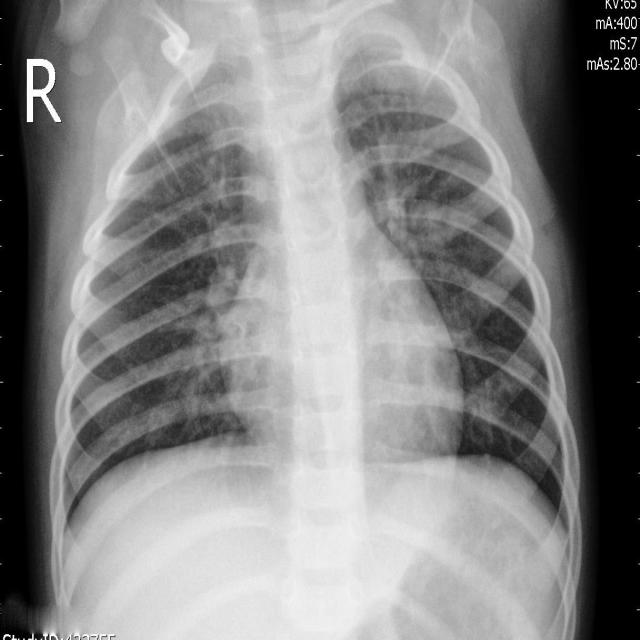high-pneumonia: (326, 7, 441, 113)
low-pneumonia: (375, 128, 472, 295), (167, 222, 249, 419), (171, 41, 263, 153)
